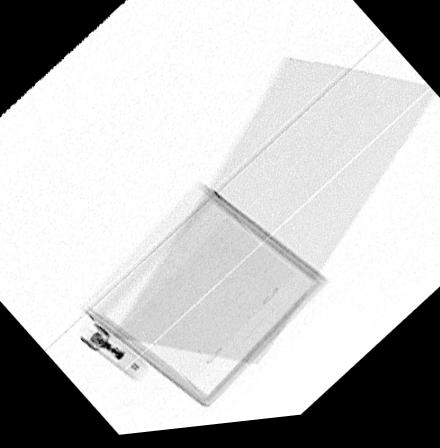Lighter: (78, 323, 149, 384)
